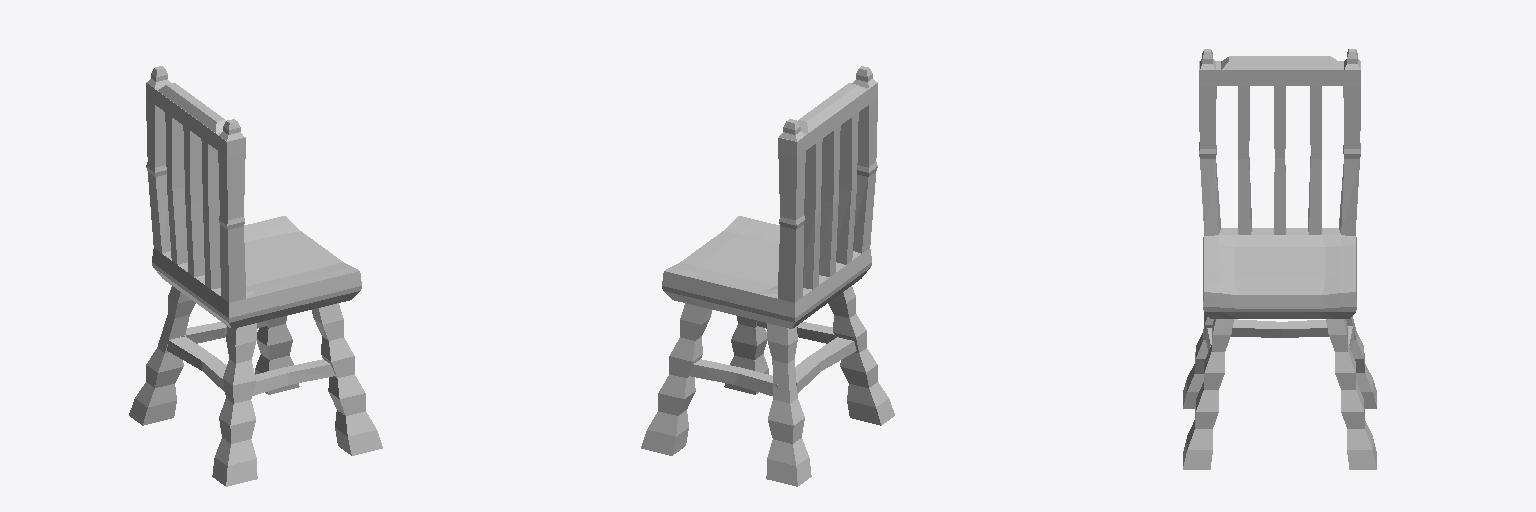
Rendered from krzeslo.obj.
3 views of the same model, side by side, from view 1: azimuth 30°, elevation 25°; view 2: azimuth 150°, elevation 25°; view 3: azimuth 270°, elevation 25° (orthographic).
Parts seen in each view (by area): view 1: Cube; view 2: Cube; view 3: Cube.
Part boxes in pixels (bbox=[...]): Cube: bbox=[129, 66, 382, 486]; Cube: bbox=[641, 66, 894, 486]; Cube: bbox=[1183, 49, 1376, 469].
Size of the model in its own units: 11.88 by 25.43 by 12.76.